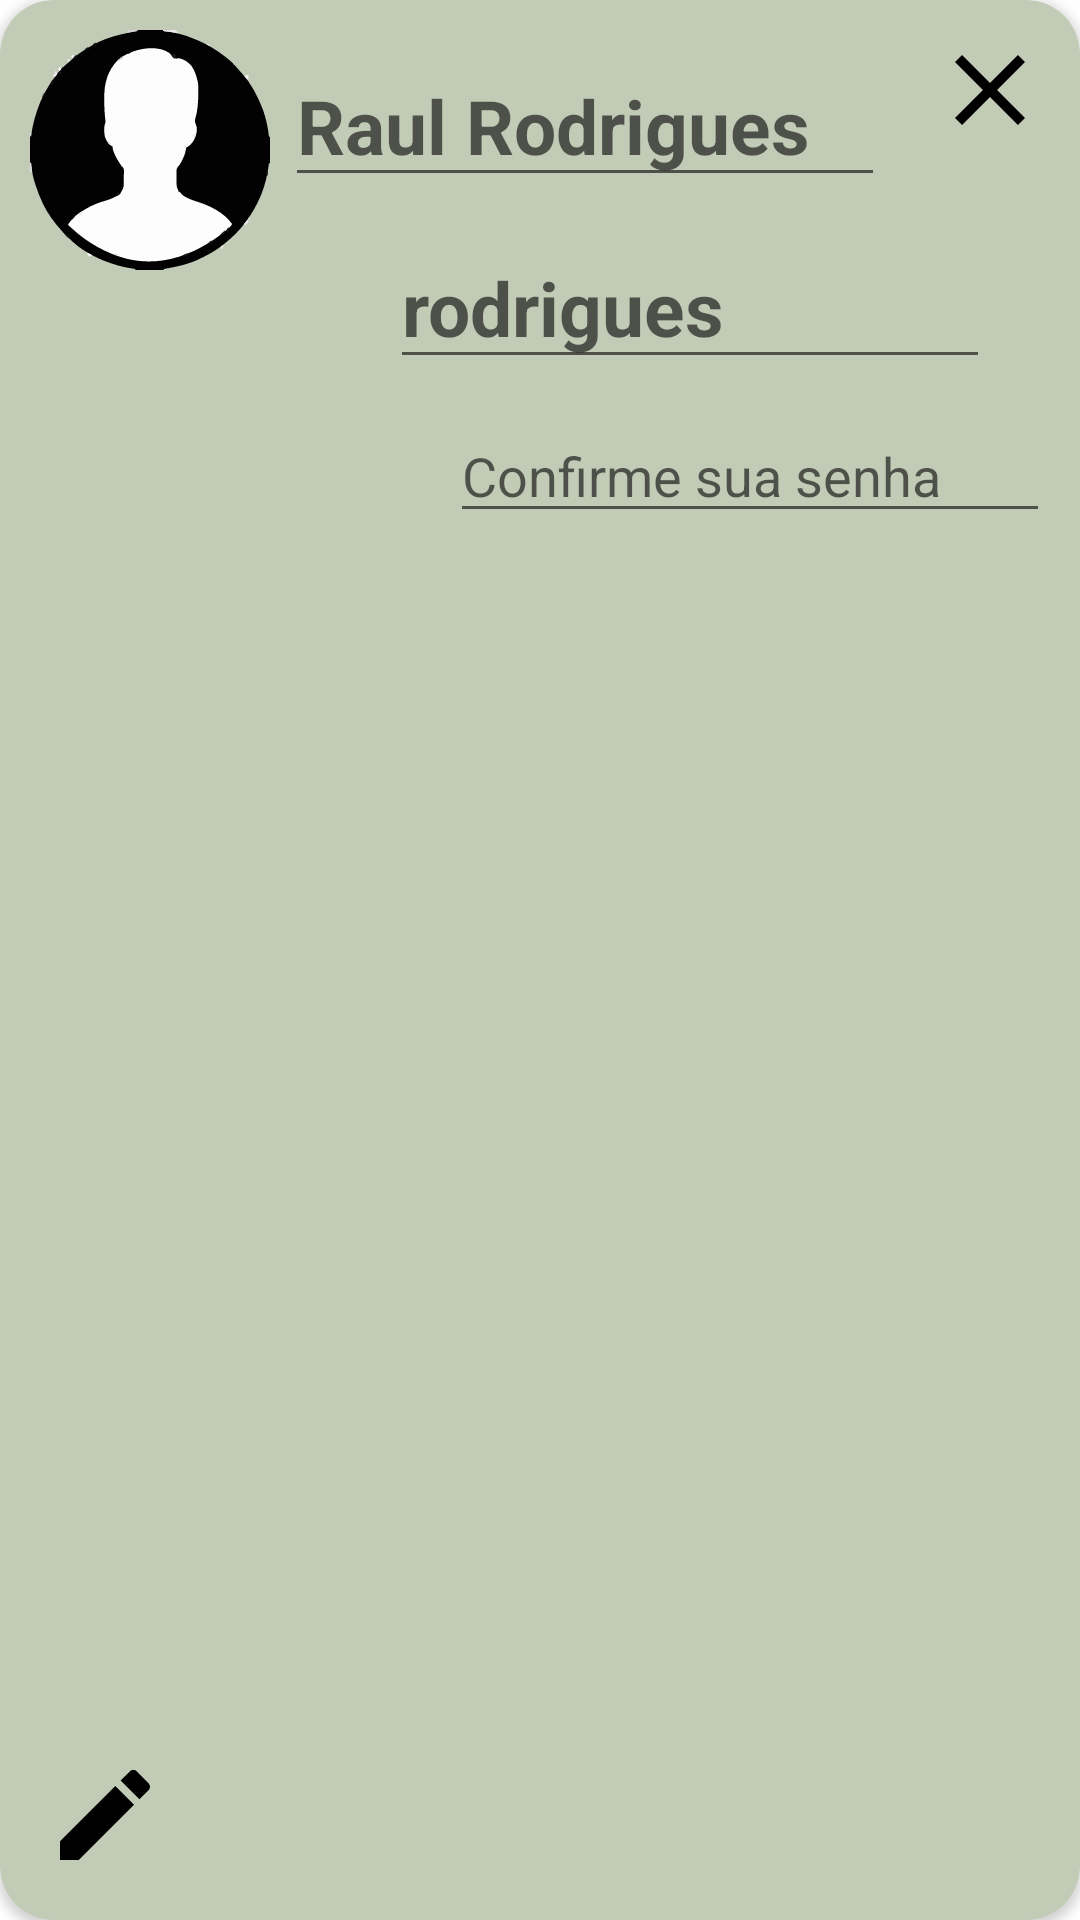

Icons on this 1080 x 1920 Android screen, each with its box as [left=x1, top=y1, right=x2, bottom=y2]:
close: [left=955, top=55, right=1025, bottom=125]
profile: [left=30, top=30, right=270, bottom=270]
